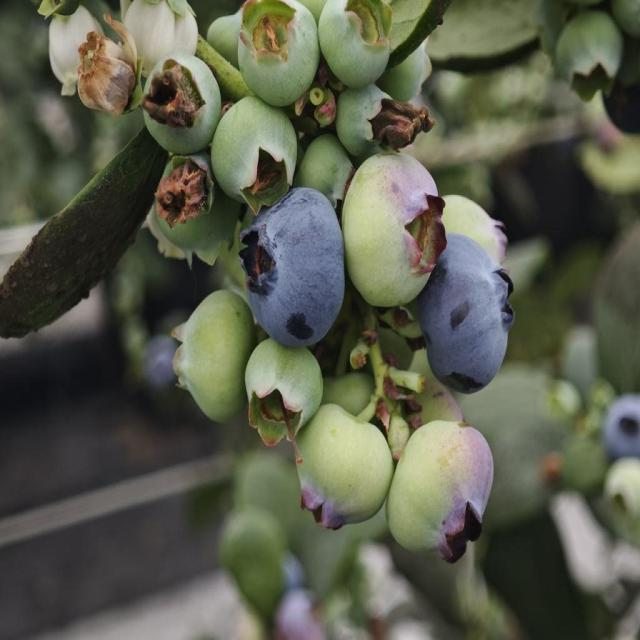RipeBlueBerry: (240, 185, 348, 352), (421, 231, 518, 396)
UnripeBlueBerry: (340, 146, 450, 312), (386, 419, 498, 565), (292, 400, 396, 534), (170, 288, 251, 425), (211, 94, 298, 198), (238, 0, 320, 106), (244, 341, 326, 446), (140, 54, 220, 158), (318, 0, 397, 81)
